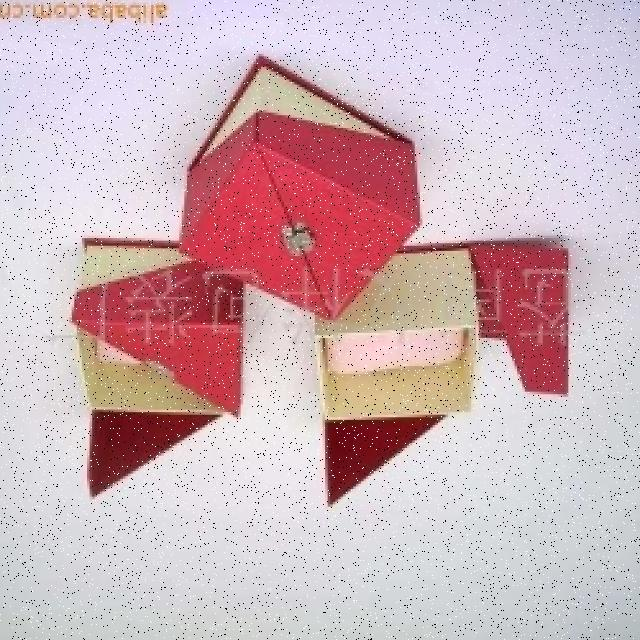box: (289, 249, 575, 521), (184, 58, 426, 316), (44, 233, 252, 512)
